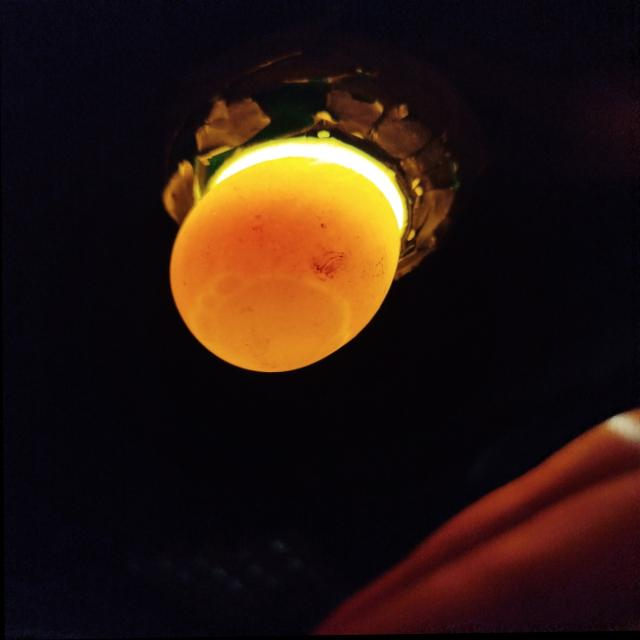Camara de Ar: (188, 273, 348, 373)
